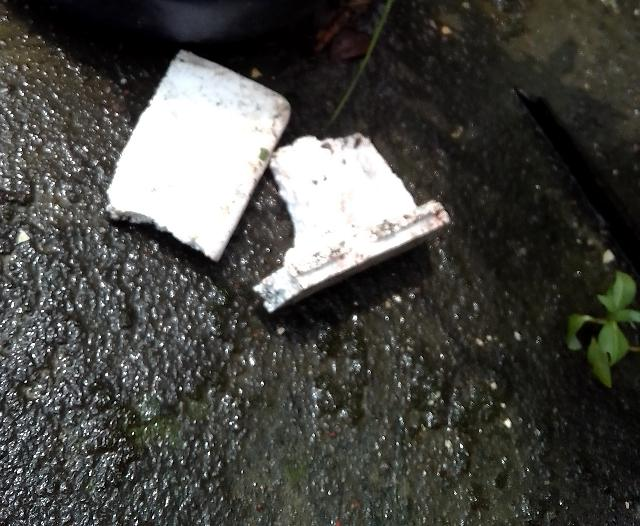cocksheet: (222, 97, 447, 302), (96, 44, 299, 270)
